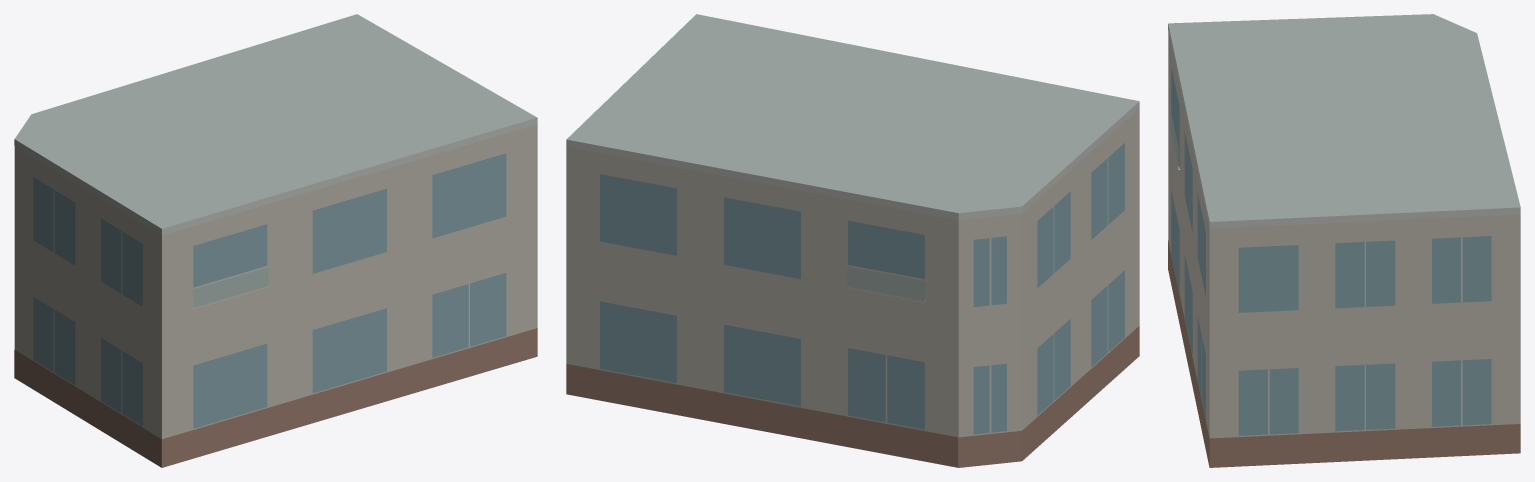
Rendered from survey-upis-32492149.glb.
3 renders of one model, left to right at view 1: azimuth 30°, elevation 25°; view 2: azimuth 150°, elevation 25°; view 3: azimuth 270°, elevation 25°, orthographic. The views are drawn at different scales.
Visible parts, largest first — view 1: survey-upis-32492149.tmp; view 2: survey-upis-32492149.tmp; view 3: survey-upis-32492149.tmp.
Boxes of the visible parts, x1=… form: survey-upis-32492149.tmp: x1=14, y1=14, x2=537, y2=467; survey-upis-32492149.tmp: x1=566, y1=14, x2=1139, y2=467; survey-upis-32492149.tmp: x1=1168, y1=14, x2=1520, y2=467.
Size of the model in its own units: 15.97 by 8.8 by 11.45.
